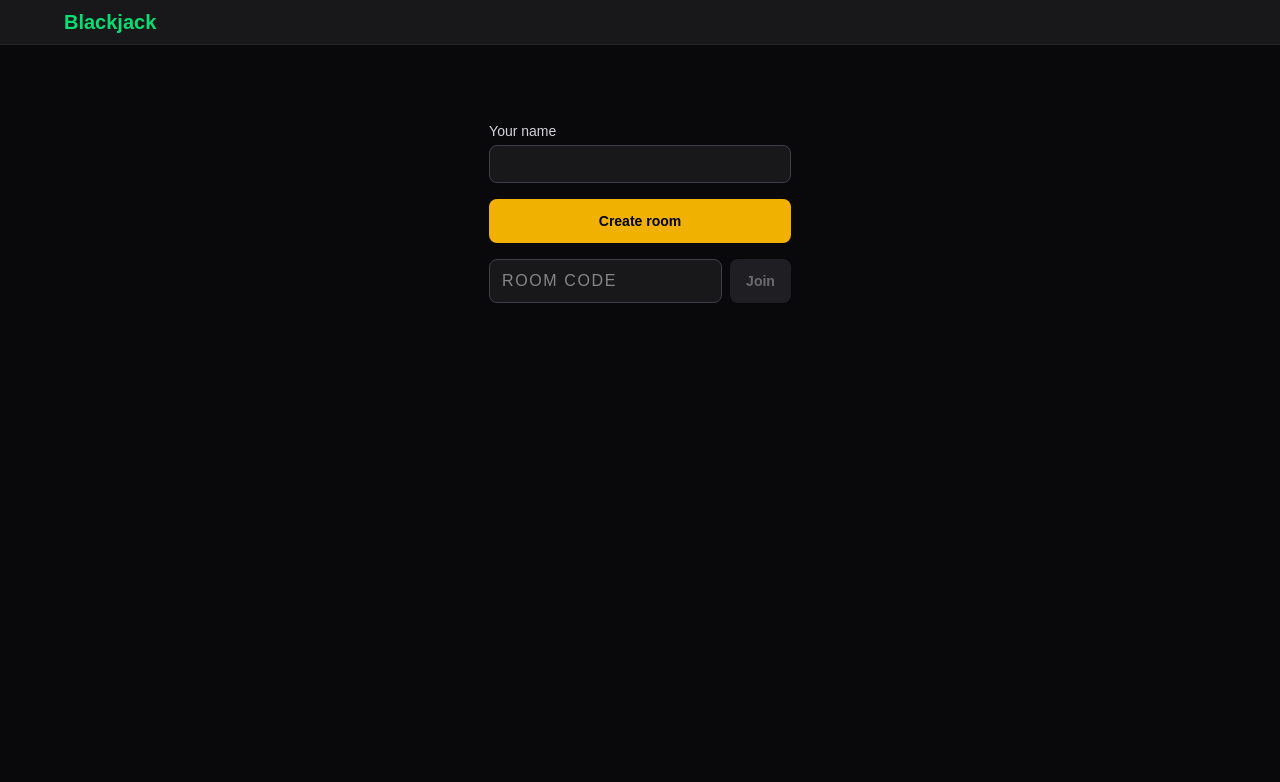
Test: Leave clears a showing error and returns to the lobby
Type "Ann" into the field labelled "Your name" at {"x": 640, "y": 164}, box [489,145,791,183]
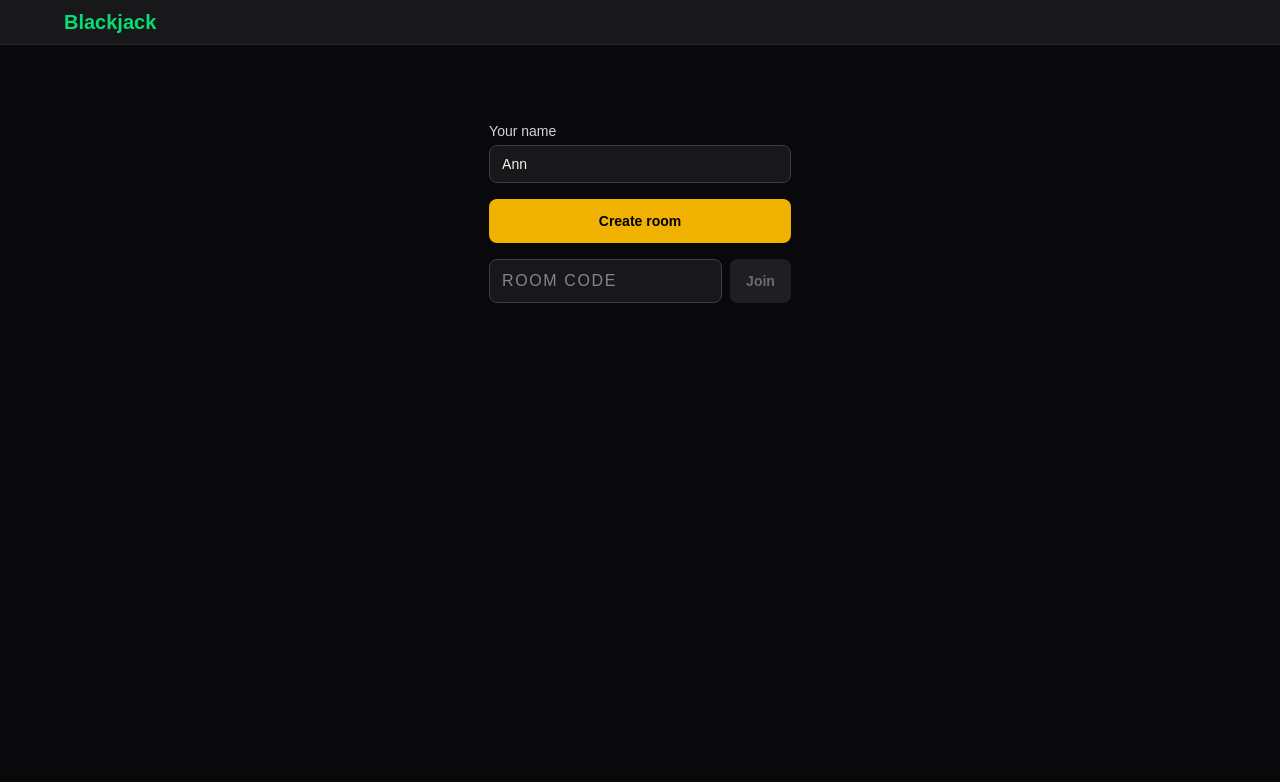
Click the button "Create room" at {"x": 640, "y": 221}, box [489,199,791,243]
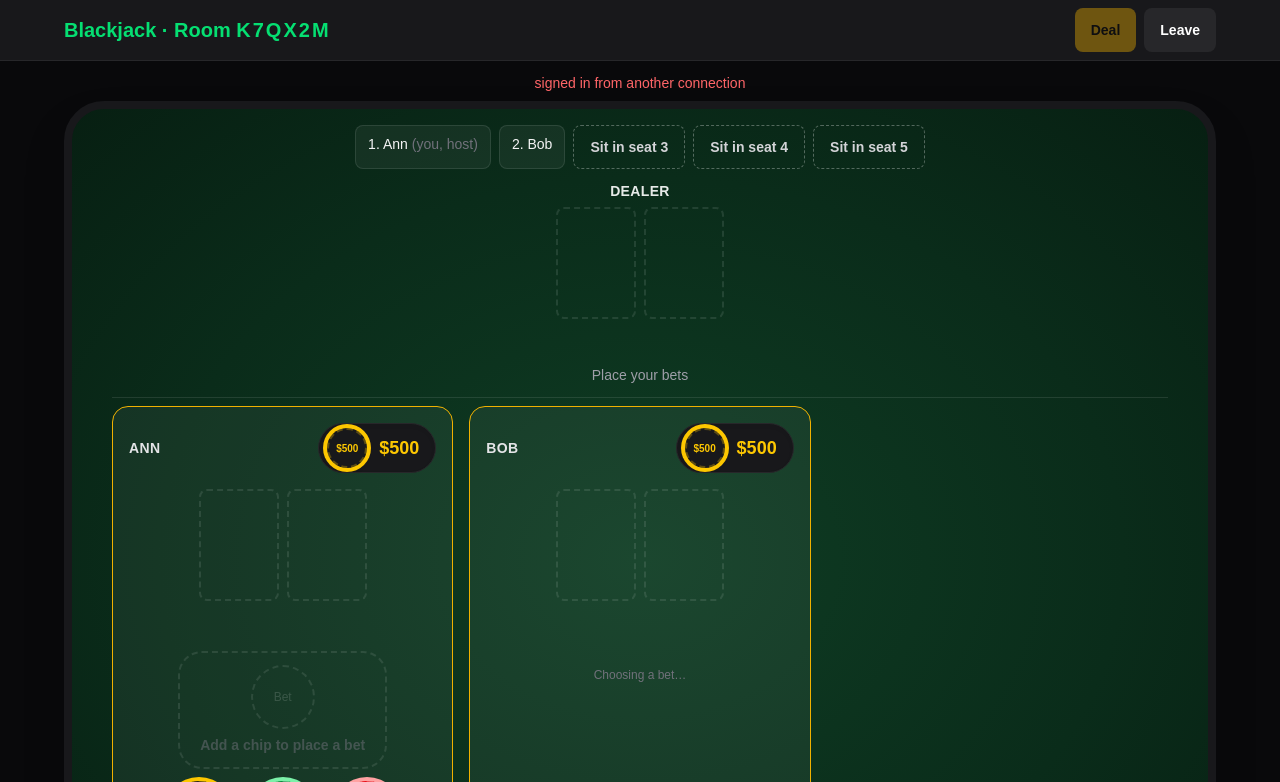
expect the message "signed in from another connection" is shown: met, box [534,73,745,93]
Click the button "Leave" at {"x": 1180, "y": 30}, box [1144,8,1216,52]
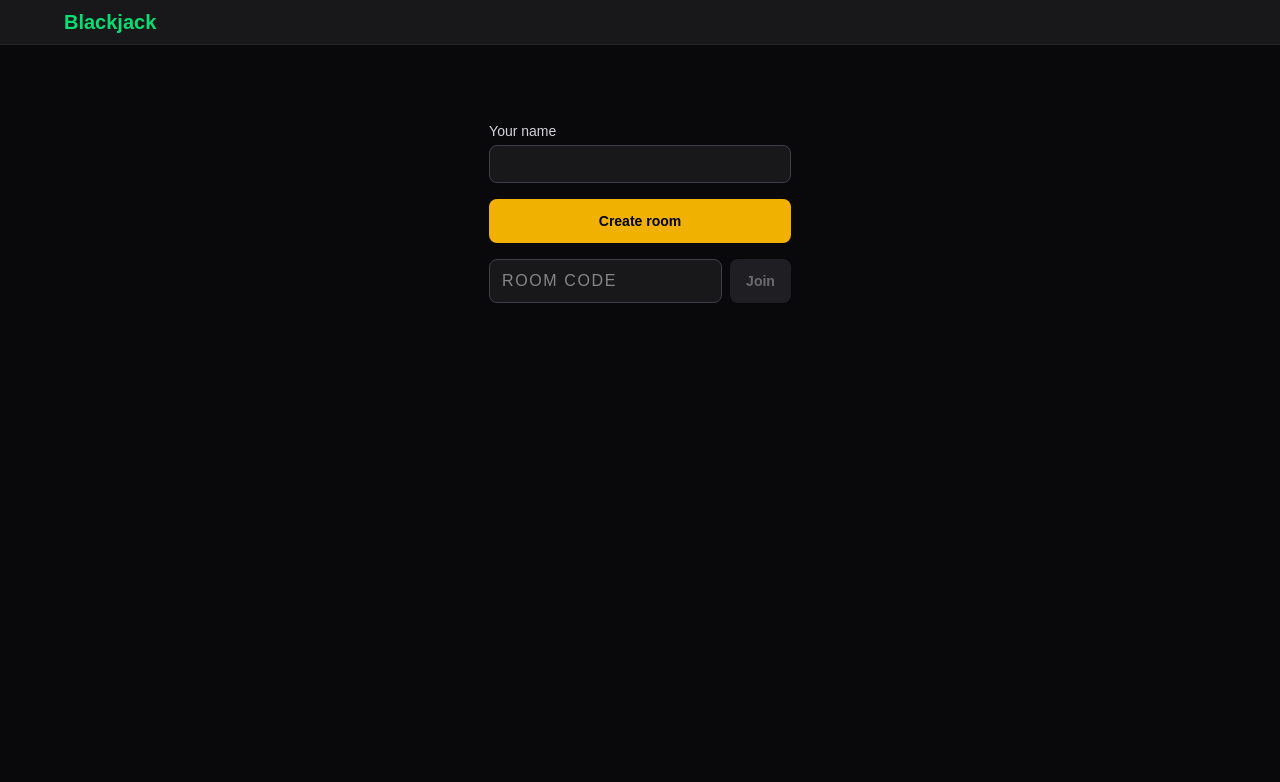
expect the button "Create room" is shown: met, box [489,199,791,243]
expect the message "signed in from another connection" is gone: met
